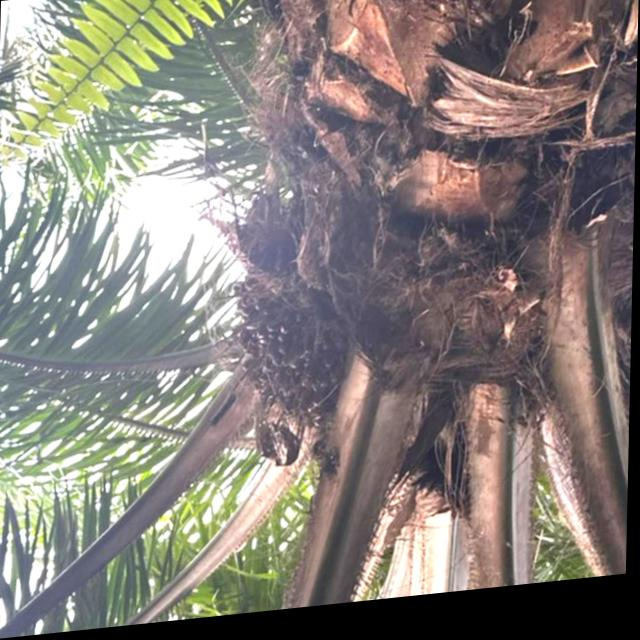ripe: (218, 232, 372, 468)
